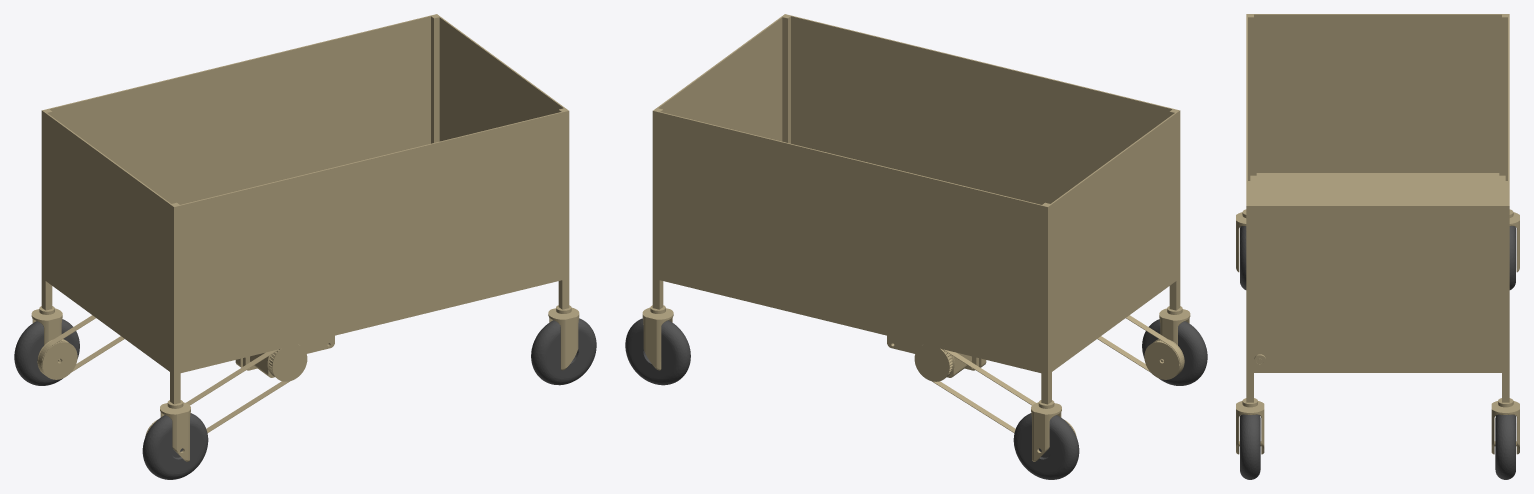
The model's file is wagon_actual.glb.
3 views of the same model, side by side, from view 1: azimuth 30°, elevation 25°; view 2: azimuth 150°, elevation 25°; view 3: azimuth 270°, elevation 25° (orthographic).
Visible parts, largest first — view 1: body, wheel_RL, wheel_FL, wheel_RR; view 2: body, wheel_RR, wheel_FR, wheel_RL; view 3: body, wheel_FL, wheel_FR, wheel_RR, wheel_RL.
Boxes of the visible parts, x1,y1,x2,y2 form: body: (31, 14, 579, 461); wheel_RL: (142, 413, 208, 479); wheel_FL: (531, 318, 596, 385); wheel_RR: (14, 319, 79, 385); body: (642, 14, 1190, 461); wheel_RR: (1013, 413, 1079, 479); wheel_FR: (625, 318, 690, 385); wheel_RL: (1142, 319, 1207, 385); body: (1236, 14, 1519, 454); wheel_FL: (1240, 414, 1260, 479); wheel_FR: (1495, 414, 1515, 479); wheel_RR: (1509, 226, 1515, 289); wheel_RL: (1240, 226, 1246, 289).
Size of the model in its own units: 1 by 0.582 by 0.5495.
